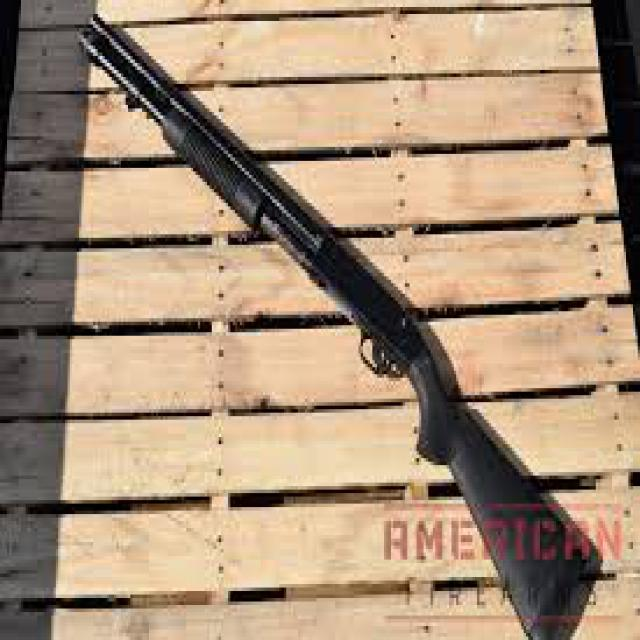long weapon: (56, 0, 615, 625)
